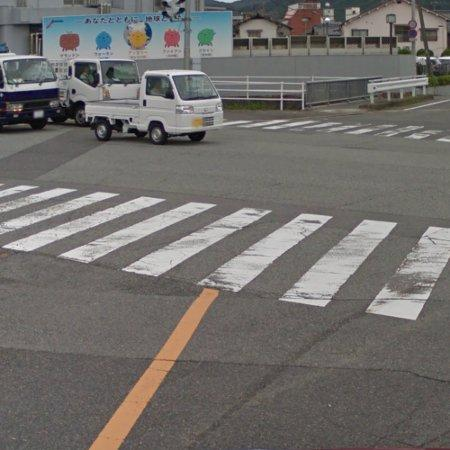crosswalks: (0, 181, 450, 320), (223, 118, 450, 145)
